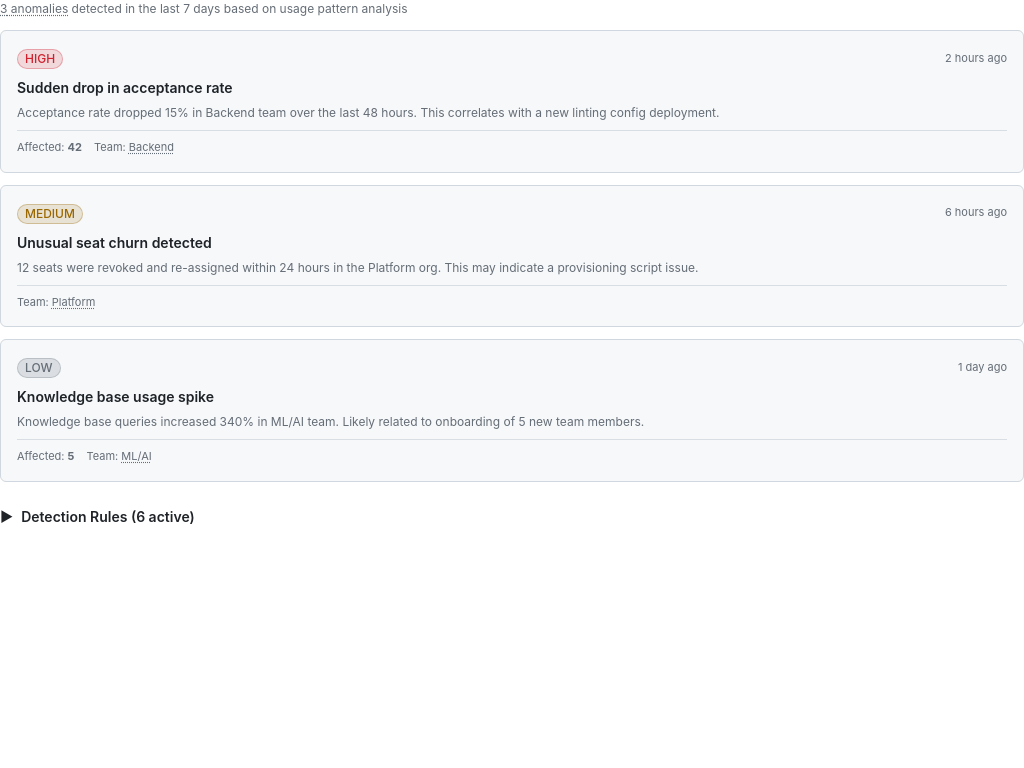
Test: AnomaliesPane custom rule modal › closes the modal when clicking close
This screenshot has width=1024, height=768.
What coordinates should you click on to do the following:
click the button "▶ Detection Rules (6 active)"
I would click on:
 (97, 516)
Its box is [0,506,195,526].
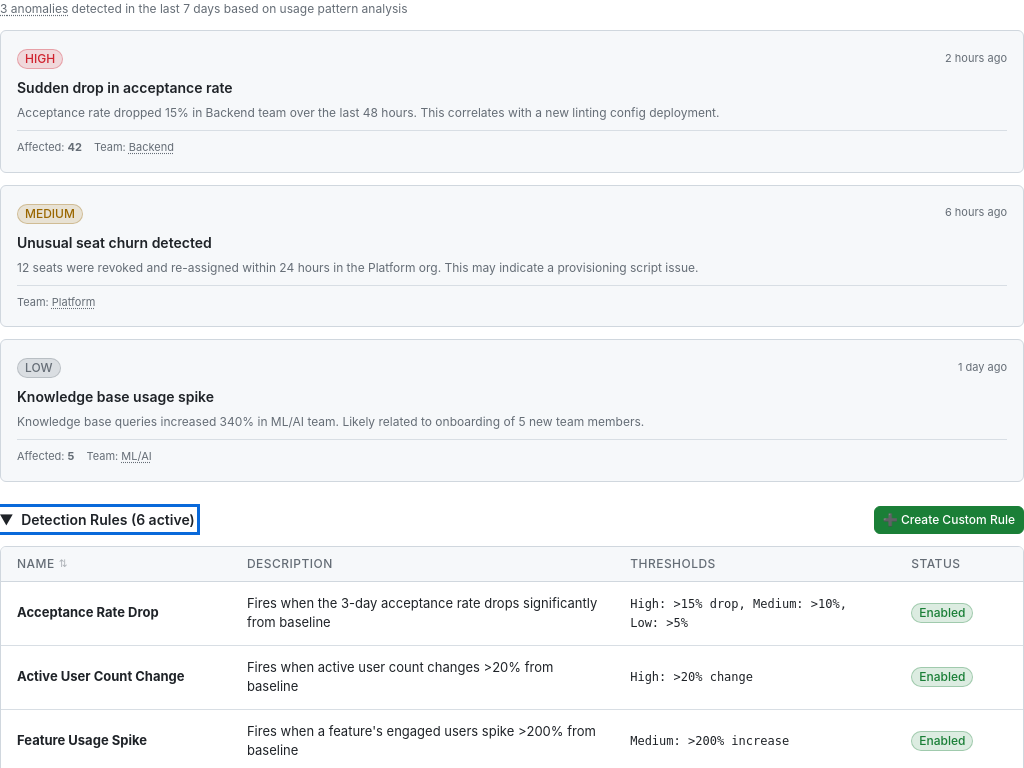
What coordinates should you click on to do the following:
click the button "➕ Create Custom Rule"
I would click on:
 (949, 520)
Its box is [874,506,1023,534].
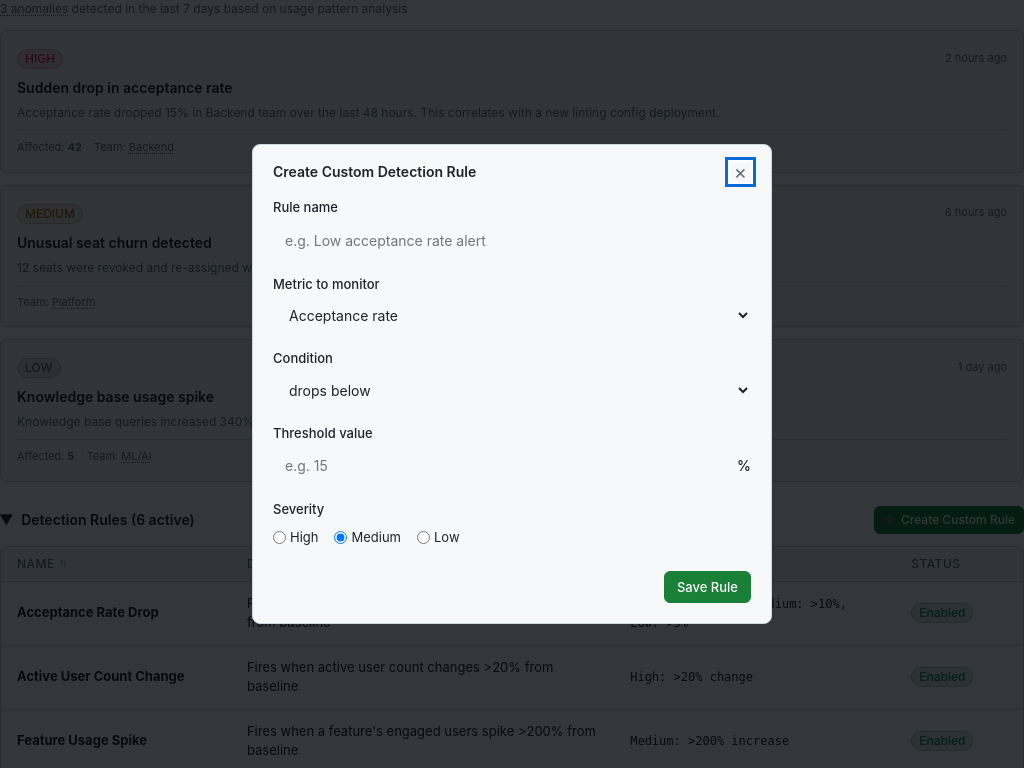
Check: the text "Create Custom Detection Rule" is shown, box [273,161,476,182]
What coordinates should you click on to do the following:
click the button named "close"
I would click on:
 (740, 172)
Its box is [730,162,751,182].
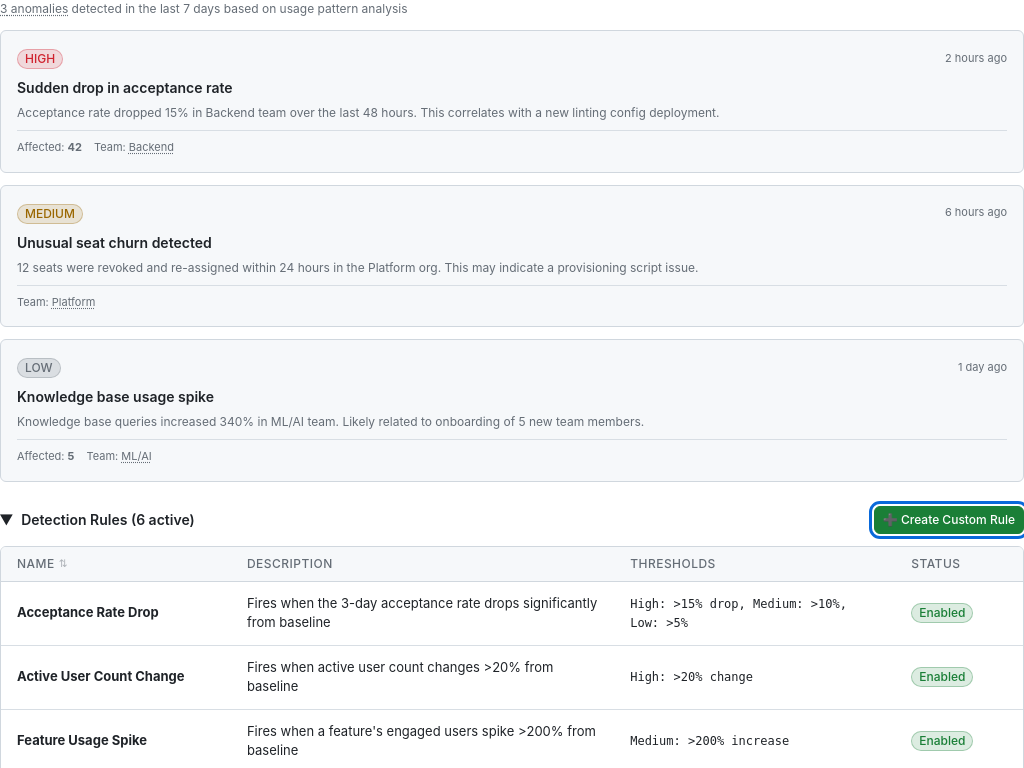
Check: the text "Create Custom Detection Rule" is gone
